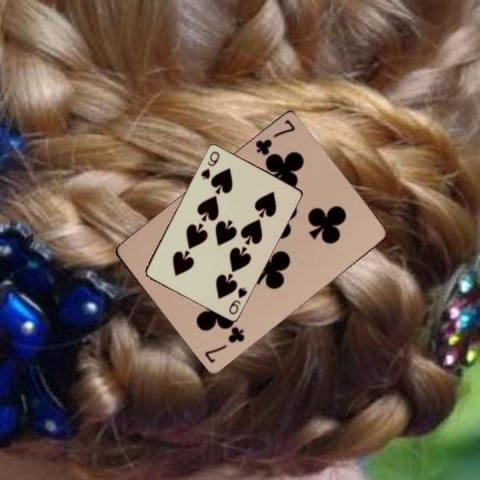7c: (201, 325, 247, 365), (252, 117, 297, 157)
9s: (197, 148, 221, 181), (225, 283, 249, 316)
